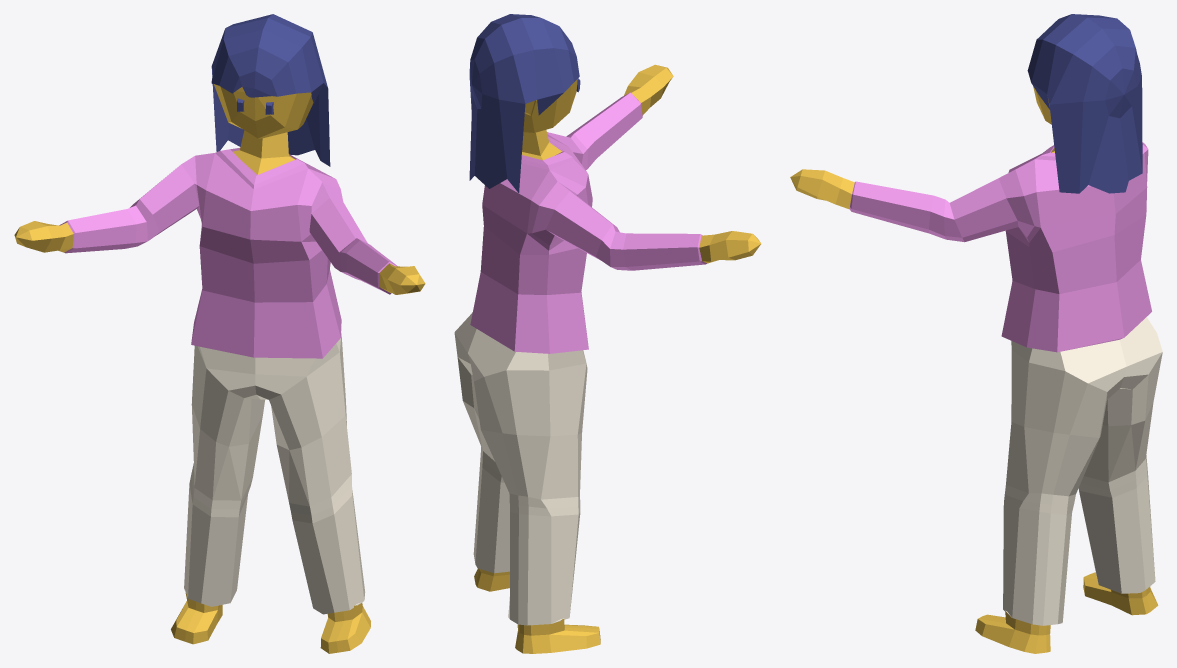
File: 094_店員(Woman)004.glb
3 views of the same model, side by side, from view 1: azimuth 30°, elevation 25°; view 2: azimuth 150°, elevation 25°; view 3: azimuth 270°, elevation 25° (orthographic).
Parts seen in each view (by area): view 1: 立方体060_4, 立方体060_2, 立方体060, 立方体060_1, 立方体060_3; view 2: 立方体060_2, 立方体060_4, 立方体060, 立方体060_1, 立方体060_3; view 3: 立方体060_2, 立方体060_4, 立方体060, 立方体060_1, 立方体060_3.
Boxes of the visible parts, x1,y1,x2,y2 form: 立方体060_4: (59,148,397,358); 立方体060_2: (184,332,365,614); 立方体060: (211,14,330,166); 立方体060_1: (171,84,370,653); 立方体060_3: (14,221,425,294); 立方体060_2: (454,312,587,625); 立方体060_4: (470,92,707,353); 立方体060: (469,14,580,192); 立方体060_1: (474,79,600,653); 立方体060_3: (624,64,761,263); 立方体060_2: (1003,317,1162,625); 立方体060_4: (849,142,1151,352); 立方体060: (1027,14,1142,193); 立方体060_1: (975,86,1158,653); 立方体060_3: (790,169,854,209).
Size of the model in its own units: 1.13 by 2.04 by 1.13.
